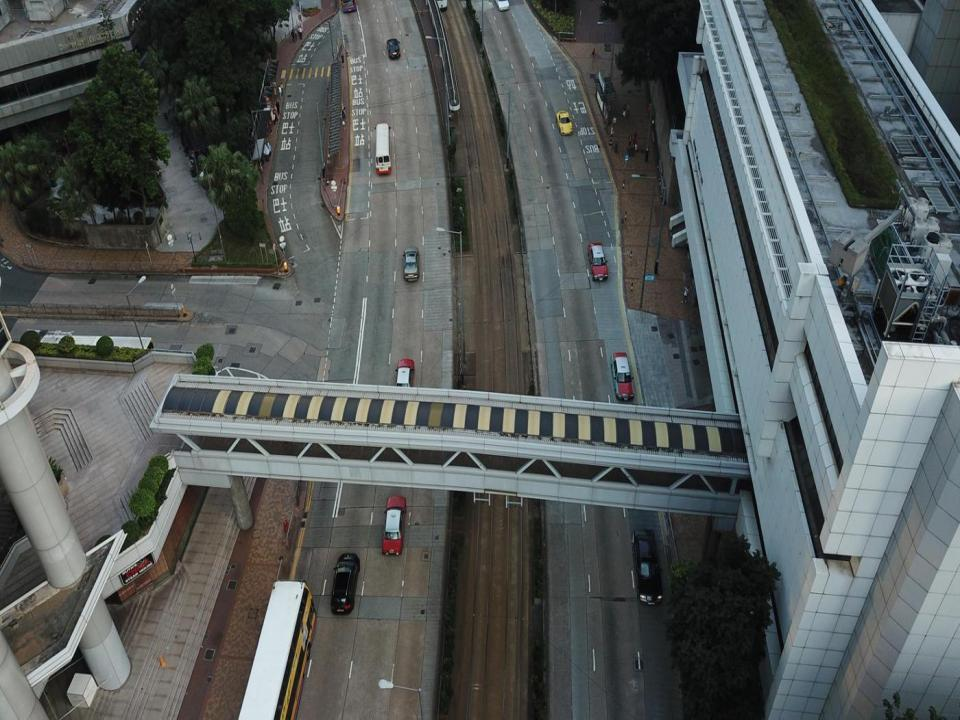bus: (374, 122, 392, 178)
car: (230, 578, 319, 718), (632, 525, 665, 605), (329, 549, 362, 614), (378, 492, 405, 557), (611, 350, 634, 401), (394, 357, 414, 402), (587, 243, 609, 281), (402, 244, 422, 283), (556, 109, 573, 135), (386, 38, 403, 57)
